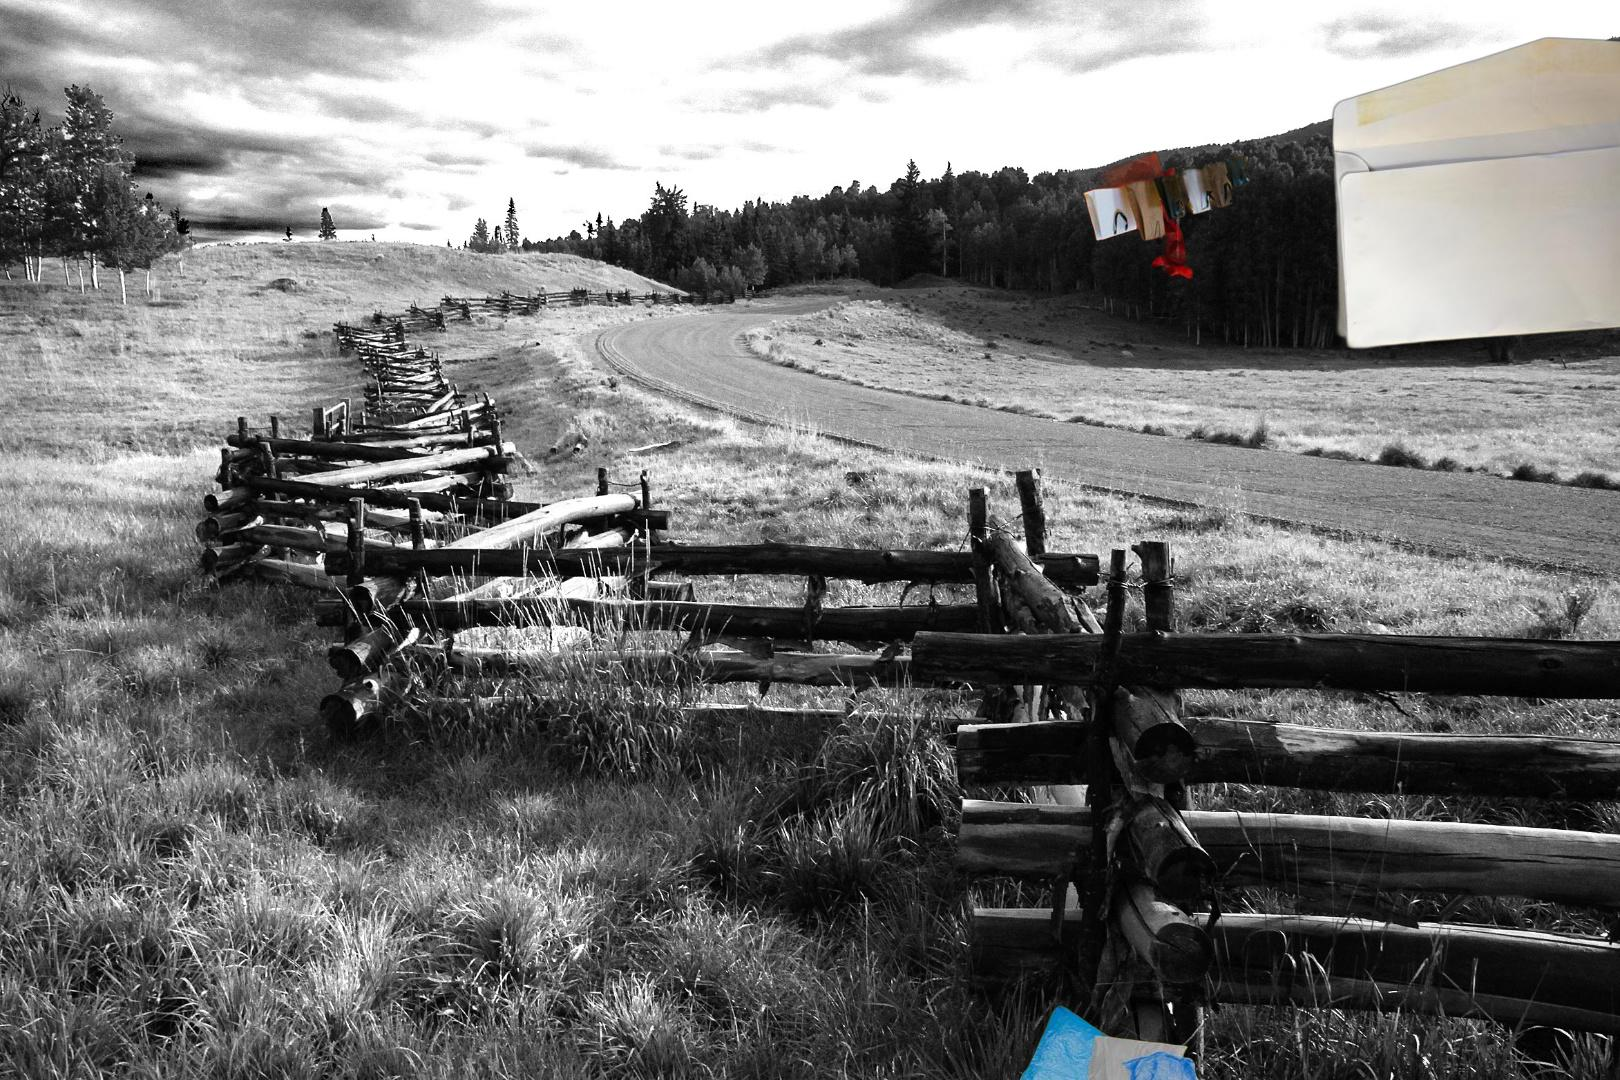metal-cans: (1593, 236, 1620, 576)
paper: (1323, 35, 1620, 354)
paper-bag: (1069, 149, 1254, 312)
plastic-bag: (994, 1002, 1213, 1080)
trash: (1486, 76, 1620, 295)
